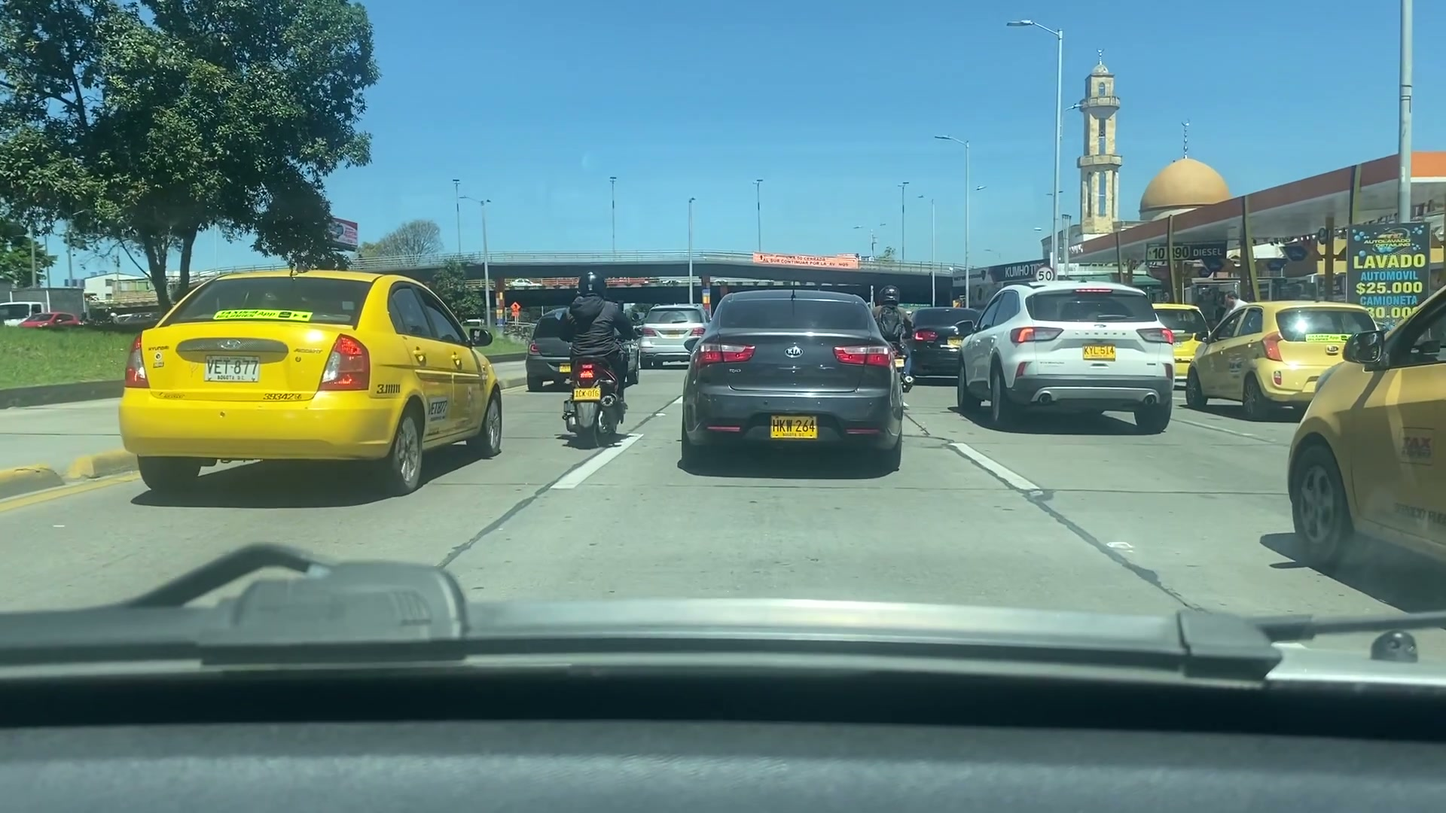car: (120, 265, 509, 494), (1277, 282, 1446, 574), (674, 291, 908, 467), (953, 282, 1169, 428), (1184, 300, 1382, 410), (521, 304, 646, 388), (898, 298, 975, 380), (1142, 291, 1206, 386), (642, 300, 703, 359)
motorcycle: (566, 353, 624, 436)
person: (571, 268, 627, 426)
